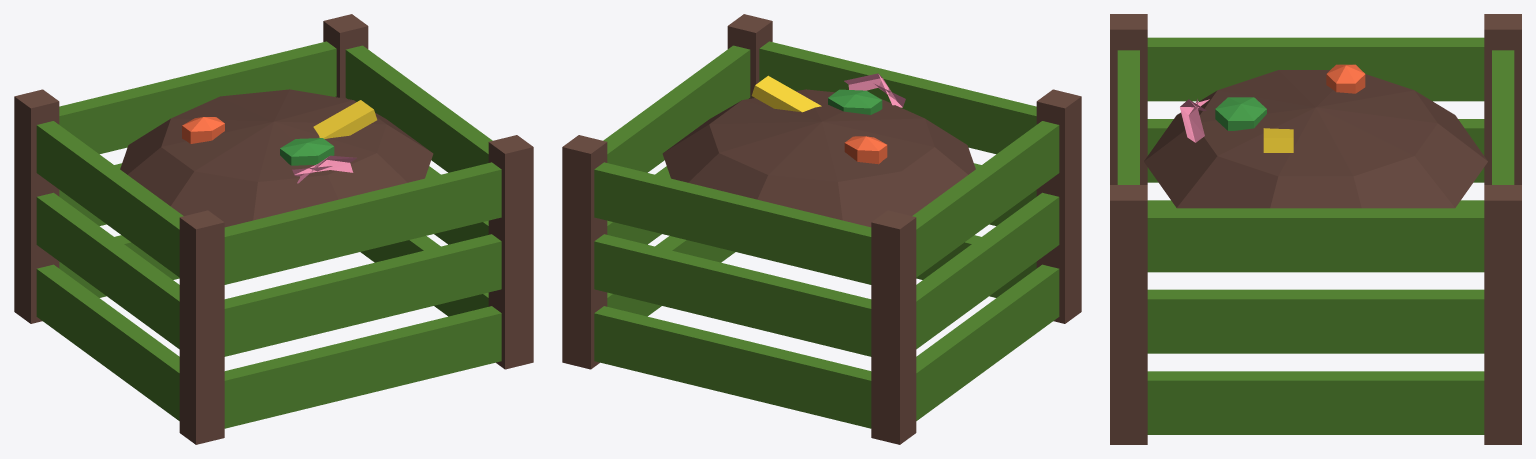
Rendered from kompost.glb.
3 views of the same model, side by side, from view 1: azimuth 30°, elevation 25°; view 2: azimuth 150°, elevation 25°; view 3: azimuth 270°, elevation 25° (orthographic). The views are drawn at different scales.
Parts seen in each view (by area): view 1: kompost; view 2: kompost; view 3: kompost.
Boxes of the visible parts, x1,y1,x2,y2 form: kompost: (14, 14, 533, 444); kompost: (562, 14, 1081, 444); kompost: (1110, 14, 1521, 444).
Bounding box in the file's own units: 0.59 × 0.3773 × 0.55.
